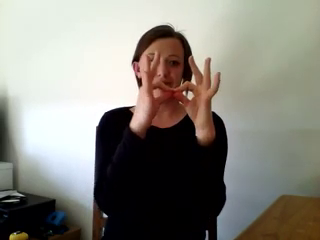B: (133, 48, 223, 130)
